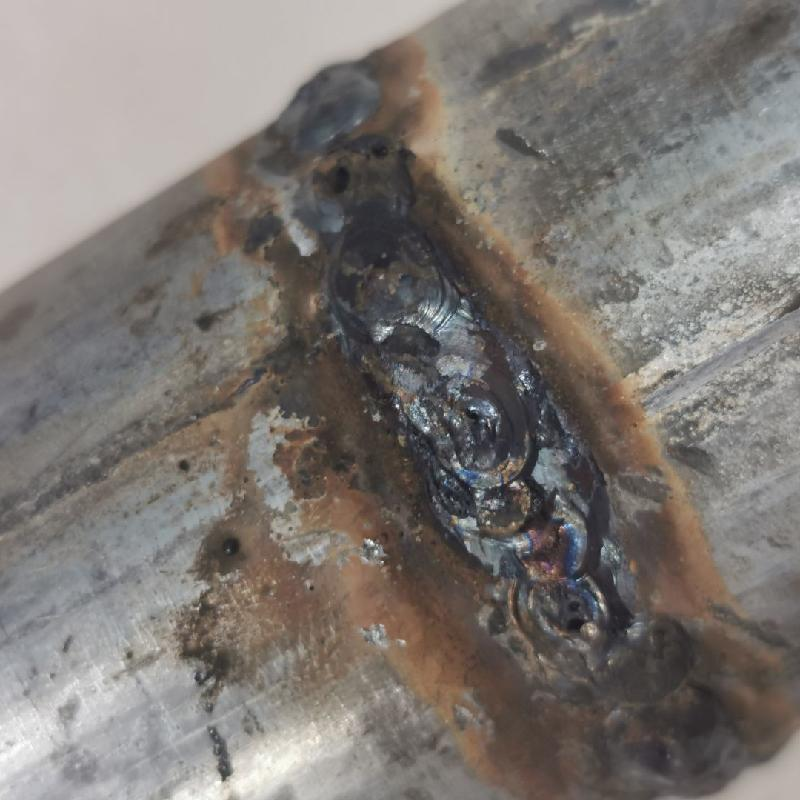Surface_pores: (304, 133, 400, 204), (543, 585, 597, 641)
crater: (405, 375, 607, 661)
wrong_size: (238, 50, 459, 357)
